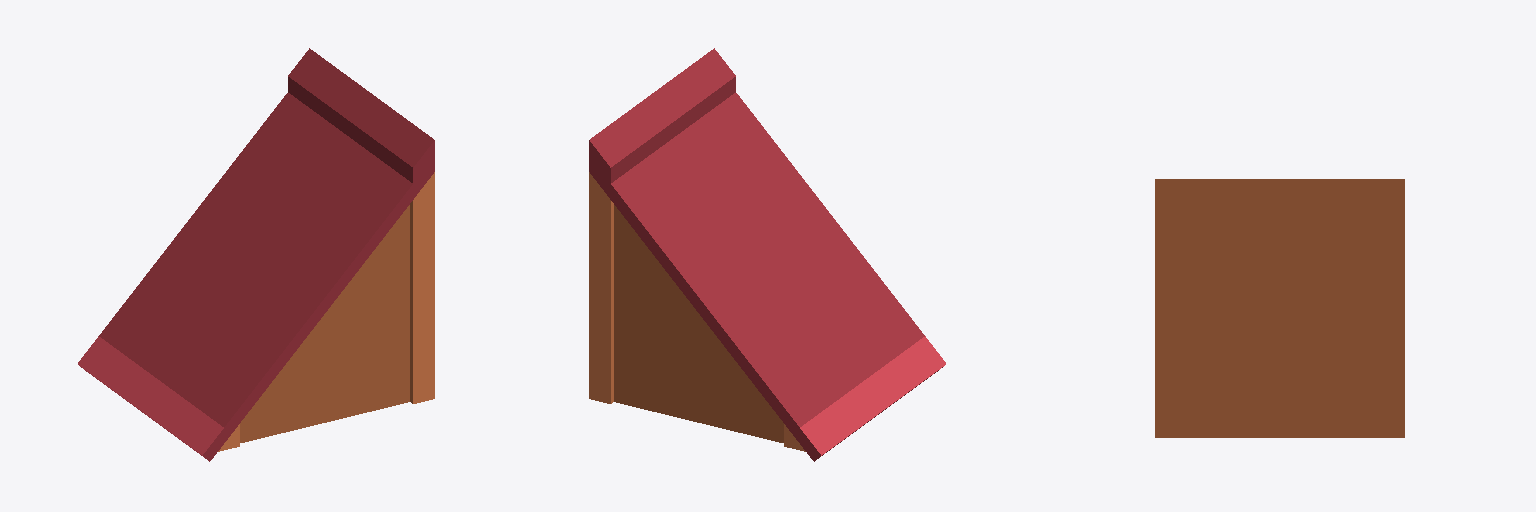
The model's file is roofHigh.obj.
The picture shows the model from 3 angles: view 1: azimuth 30°, elevation 25°; view 2: azimuth 150°, elevation 25°; view 3: azimuth 270°, elevation 25°; orthographic projection.
Visible parts, largest first — view 1: roofHigh; view 2: roofHigh; view 3: roofHigh.
Boxes of the visible parts, x1=… form: roofHigh: x1=78, y1=48, x2=434, y2=461; roofHigh: x1=589, y1=48, x2=945, y2=461; roofHigh: x1=1155, y1=179, x2=1404, y2=437.
Bounding box in the file's own units: 1.07 × 1.18 × 1.